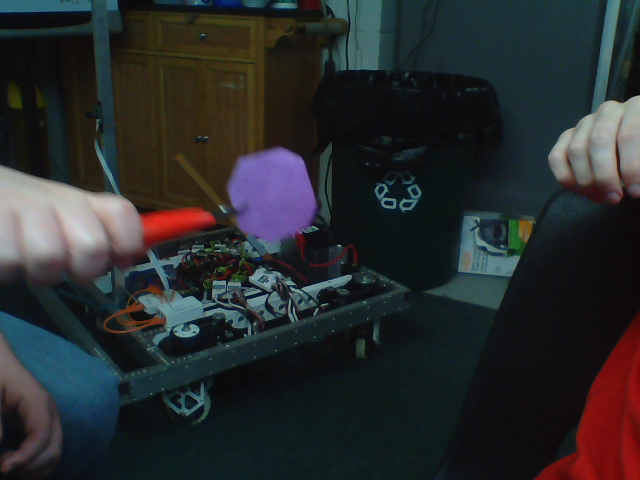ball: (226, 146, 317, 240)
